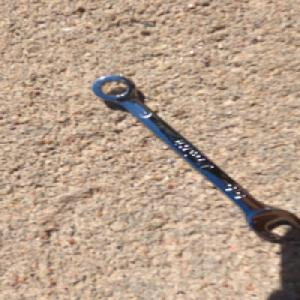Wrench: (90, 74, 300, 244)
